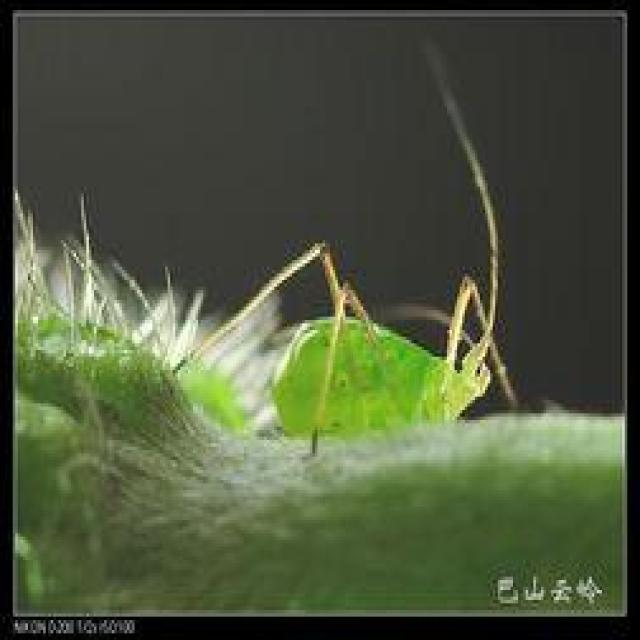Aphids: (207, 154, 542, 471)
